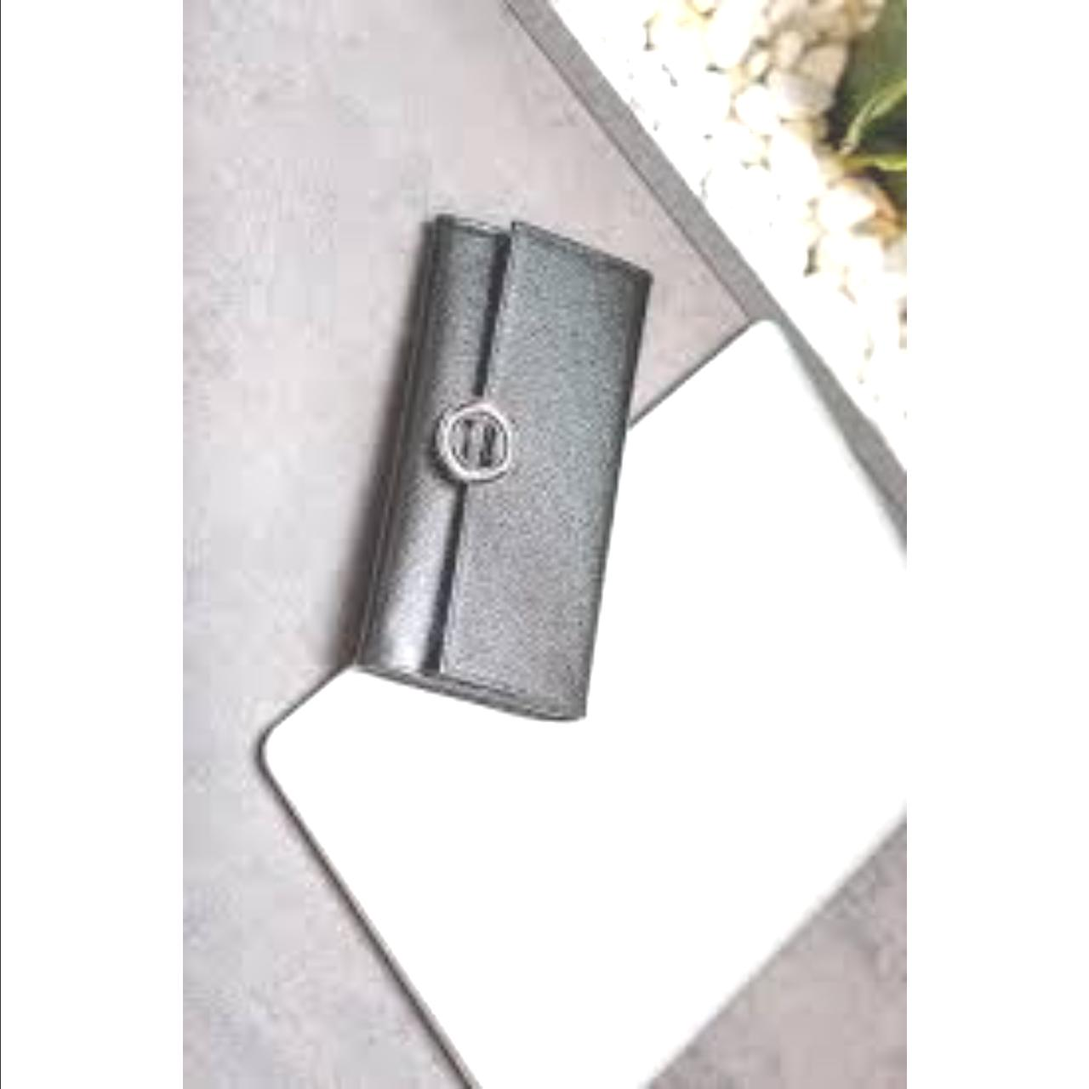wallet: (294, 184, 693, 726)
